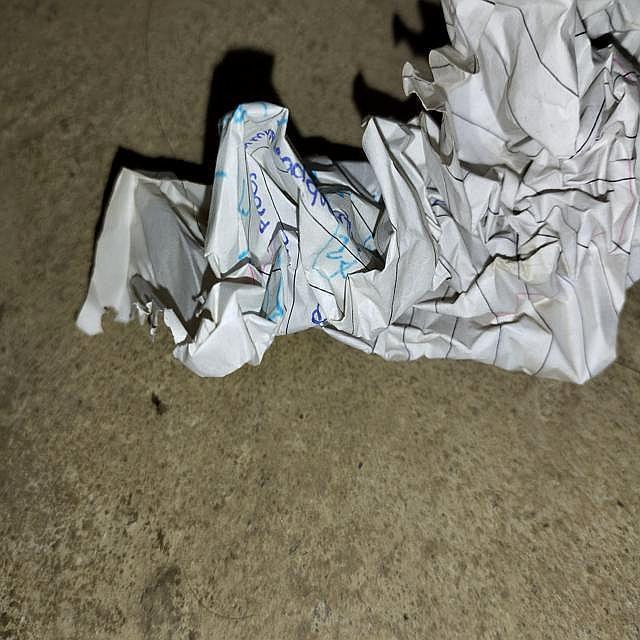Biodegradable: (91, 5, 640, 385)
